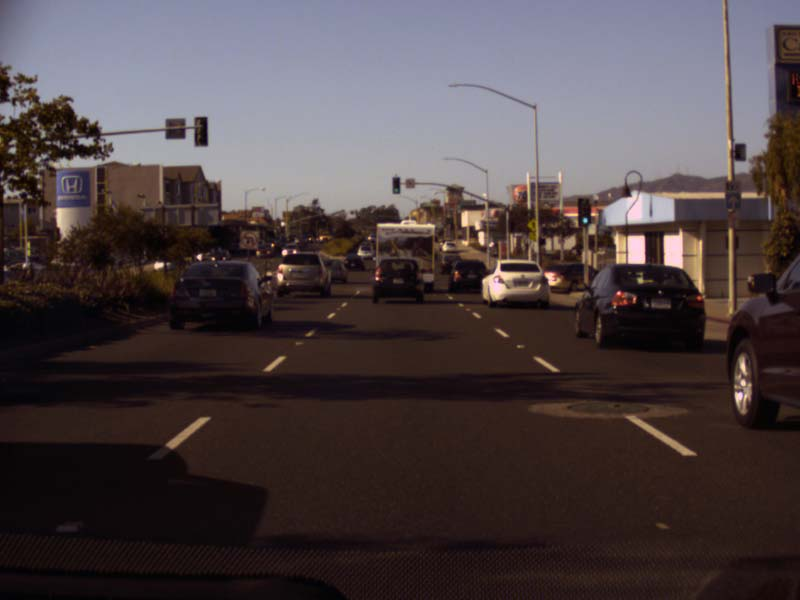Green: (577, 197, 590, 226), (392, 177, 400, 193)
